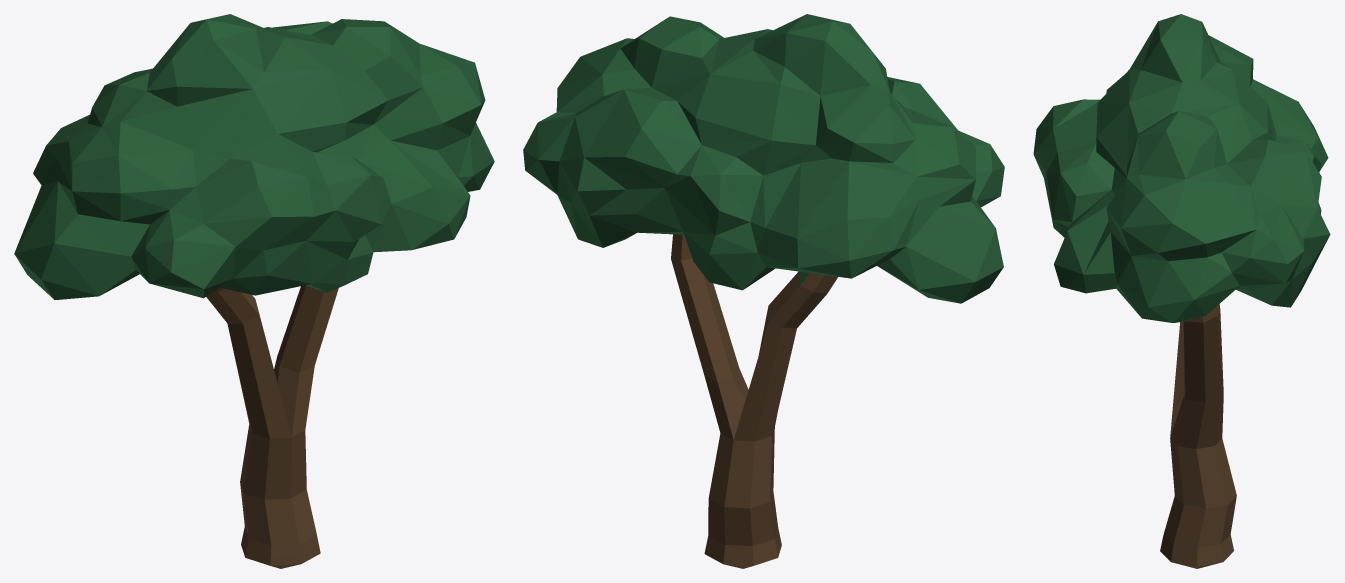
Rendered from tree4.fbx.
3 views of the same model, side by side, from view 1: azimuth 30°, elevation 25°; view 2: azimuth 150°, elevation 25°; view 3: azimuth 270°, elevation 25° (orthographic). The views are drawn at different scales.
Visible parts, largest first — view 1: polySurface15724; view 2: polySurface15724; view 3: polySurface15724.
Boxes of the visible parts, box(x1,y1,x2,y2) form: polySurface15724: box(14, 14, 494, 568); polySurface15724: box(523, 14, 1004, 568); polySurface15724: box(1033, 14, 1330, 568).
Size of the model in its own units: 546 by 670 by 348.
